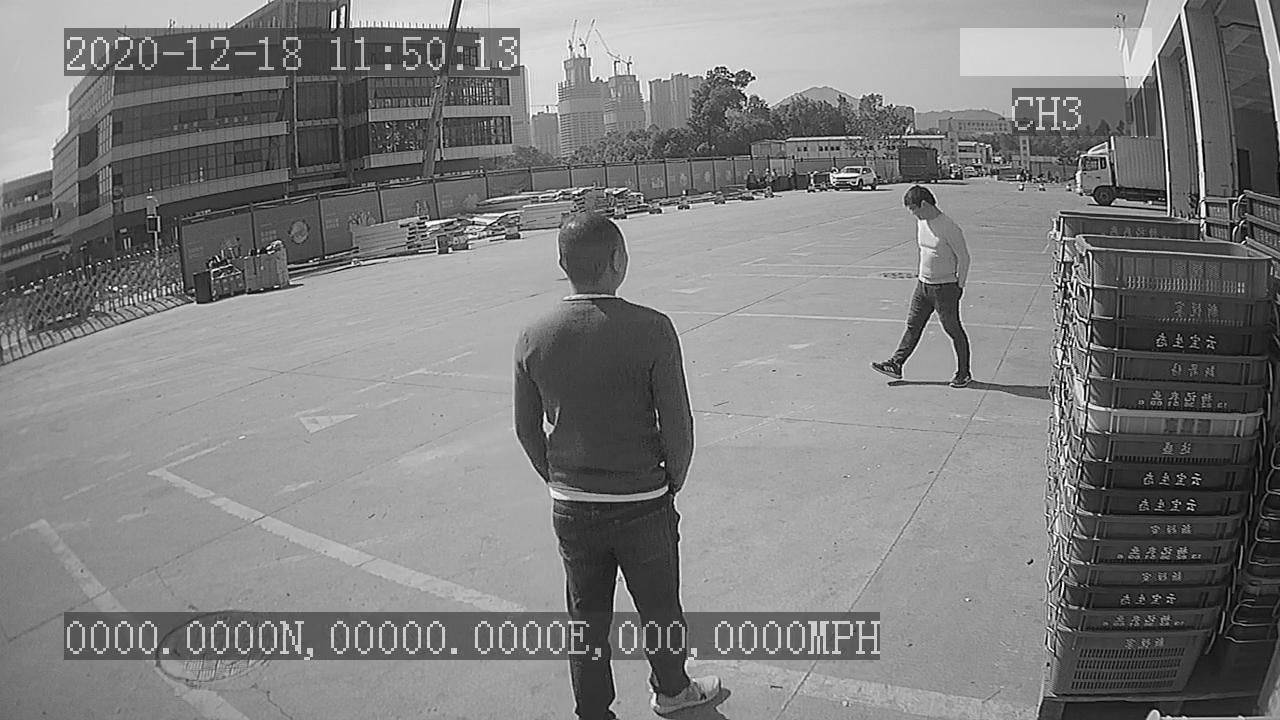person: (865, 185, 976, 390)
